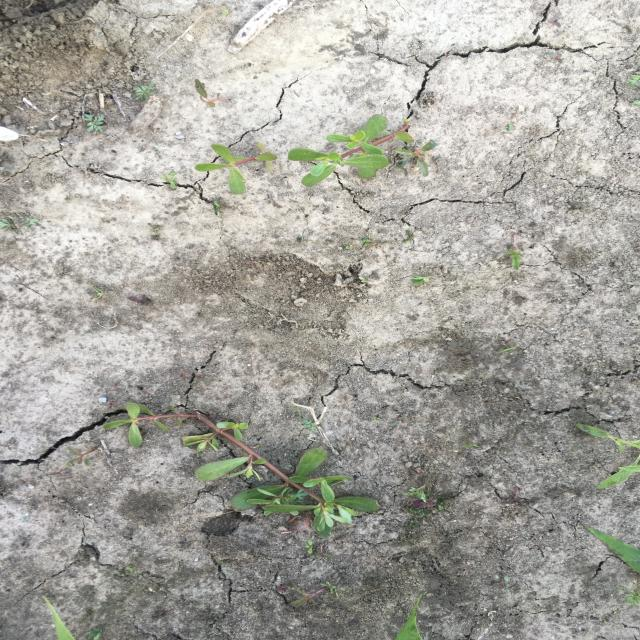Purslane: (102, 400, 384, 540), (286, 113, 416, 188), (193, 141, 280, 196)
Waterhemp: (393, 138, 438, 178)
